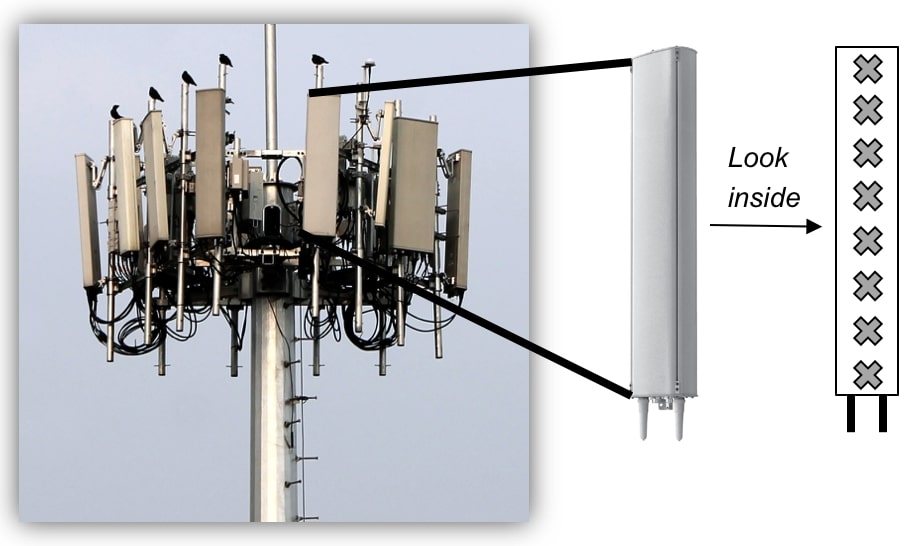sa: (622, 38, 696, 438), (392, 109, 449, 270), (94, 112, 149, 267), (190, 83, 239, 255), (300, 90, 350, 257), (127, 113, 181, 264), (67, 147, 109, 311), (441, 136, 480, 307), (381, 97, 399, 251)
